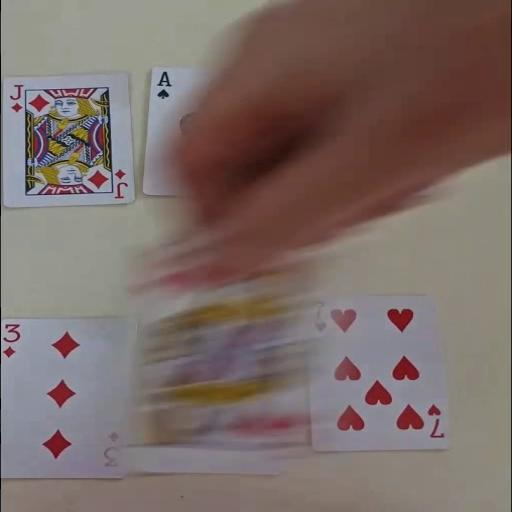3: (1, 322, 22, 359)
7: (424, 402, 444, 439)
A: (155, 69, 174, 100)
J: (6, 82, 24, 114), (111, 167, 129, 199)
